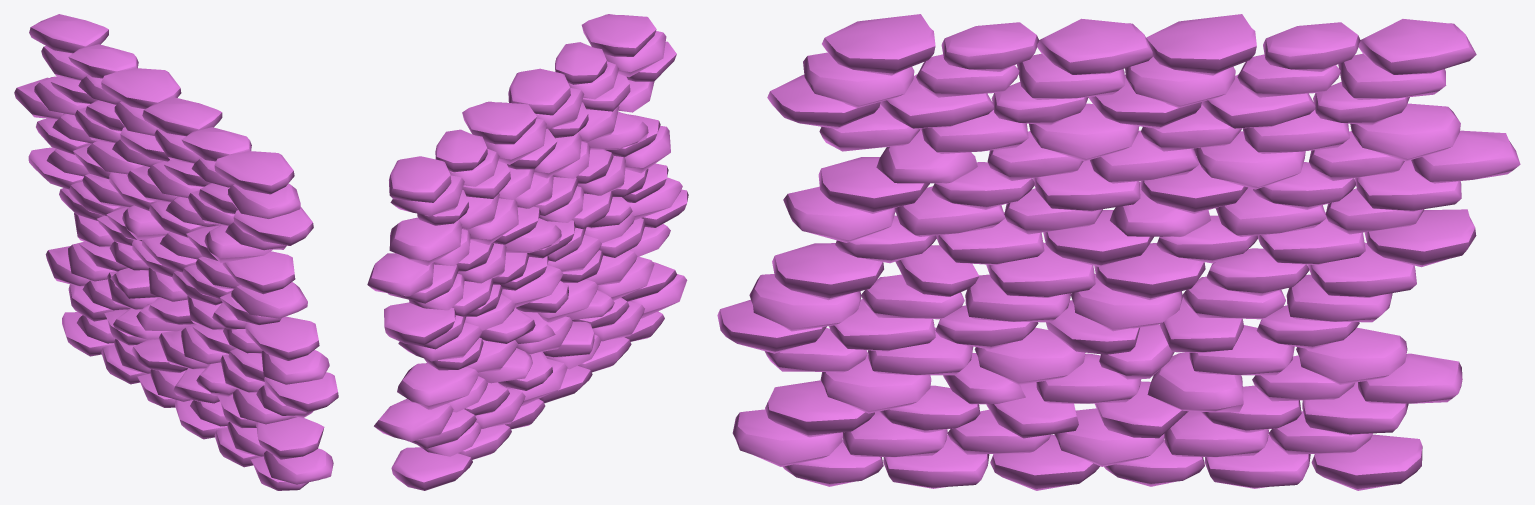
File: BrickWall01_mesh.fbx
3 renders of one model, left to right at view 1: azimuth 30°, elevation 25°; view 2: azimuth 150°, elevation 25°; view 3: azimuth 270°, elevation 25°, orthographic. The views are drawn at different scales.
Visible parts, largest first — view 1: BrickWall01_mesh; view 2: BrickWall01_mesh; view 3: BrickWall01_mesh.
Boxes of the visible parts, <box> form: BrickWall01_mesh: <box>14,14,338,490</box>; BrickWall01_mesh: <box>367,14,688,490</box>; BrickWall01_mesh: <box>717,14,1520,490</box>.
Size of the model in its own units: 1.26 by 4.86 by 7.91.
